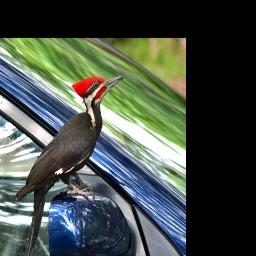Woodpecker: (13, 74, 125, 256)
